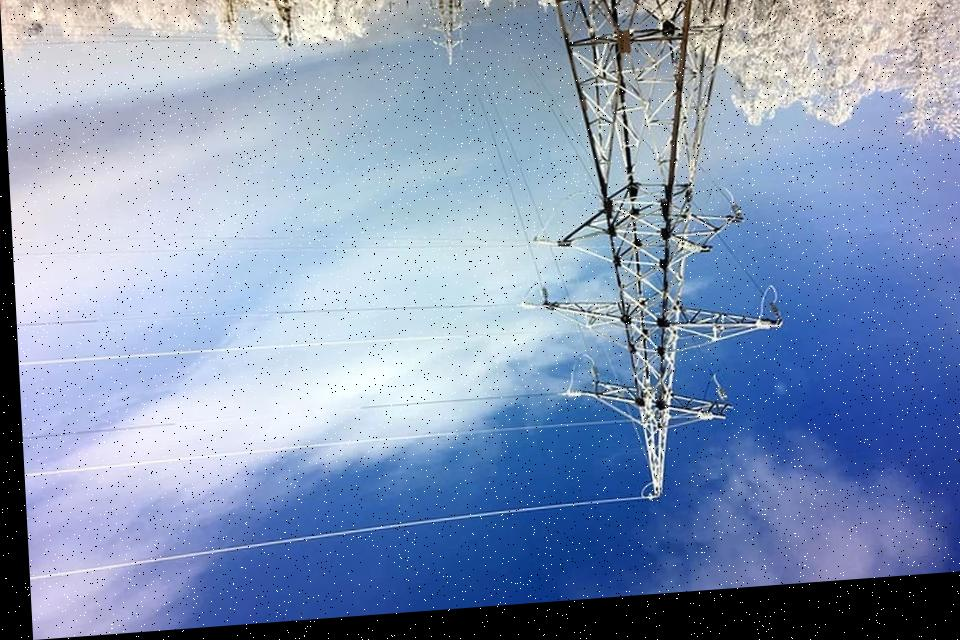tower: (515, 0, 799, 514)
